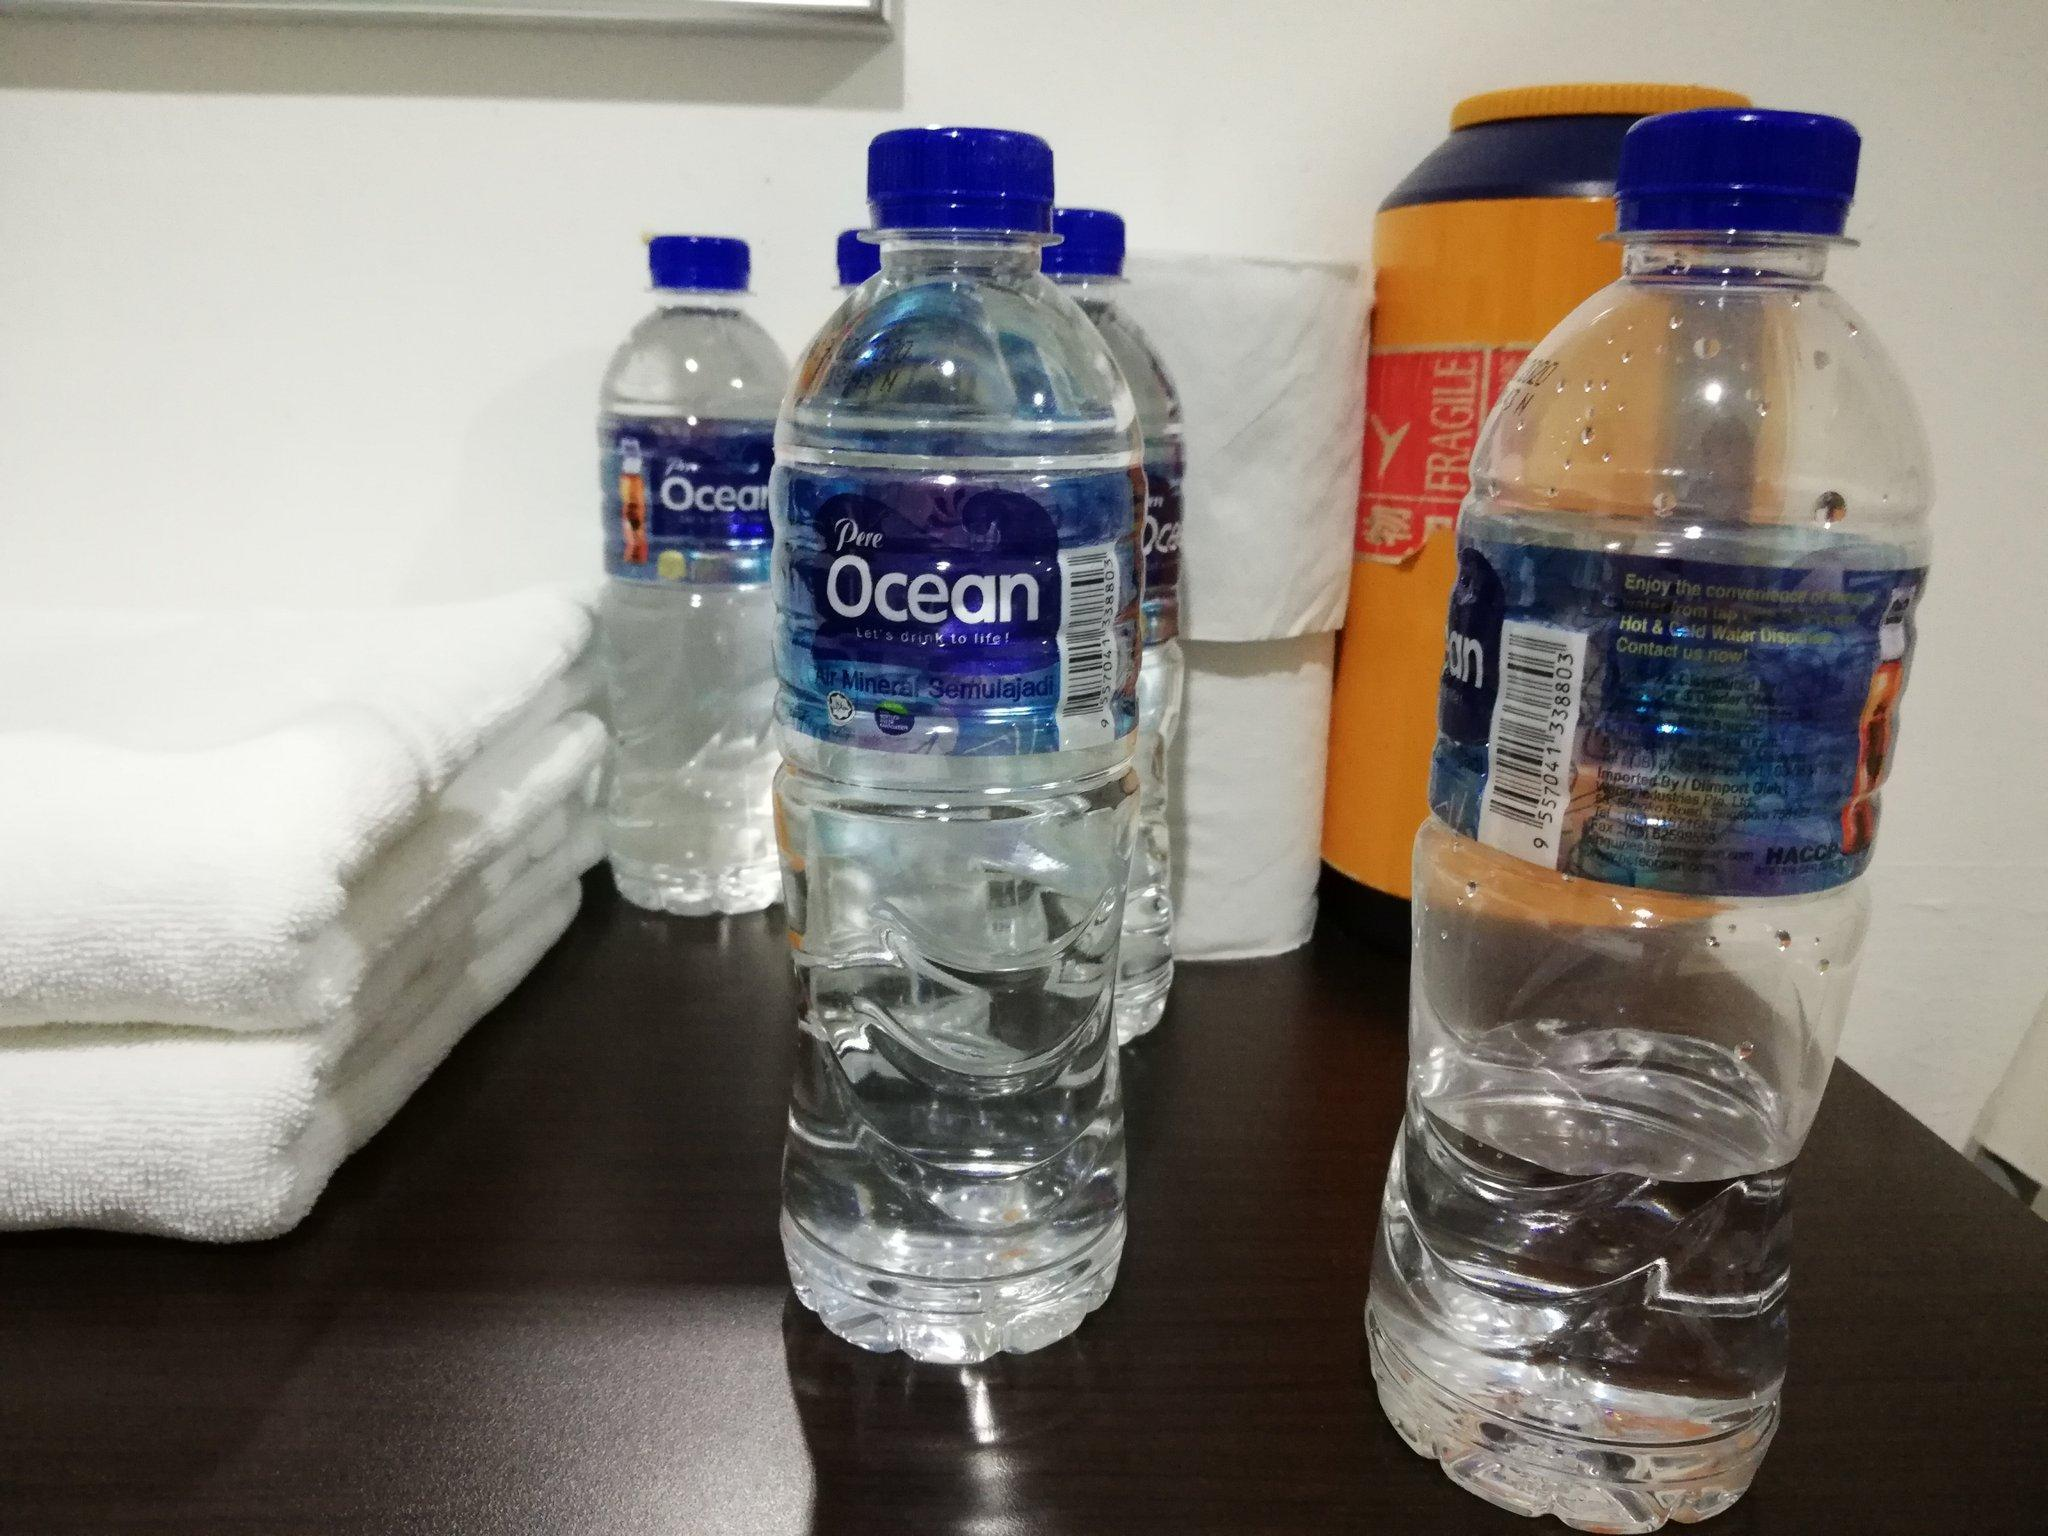bottle: (1348, 81, 1956, 1536), (751, 103, 1161, 1389), (761, 177, 1050, 1096), (966, 184, 1222, 1075), (564, 194, 822, 936)
